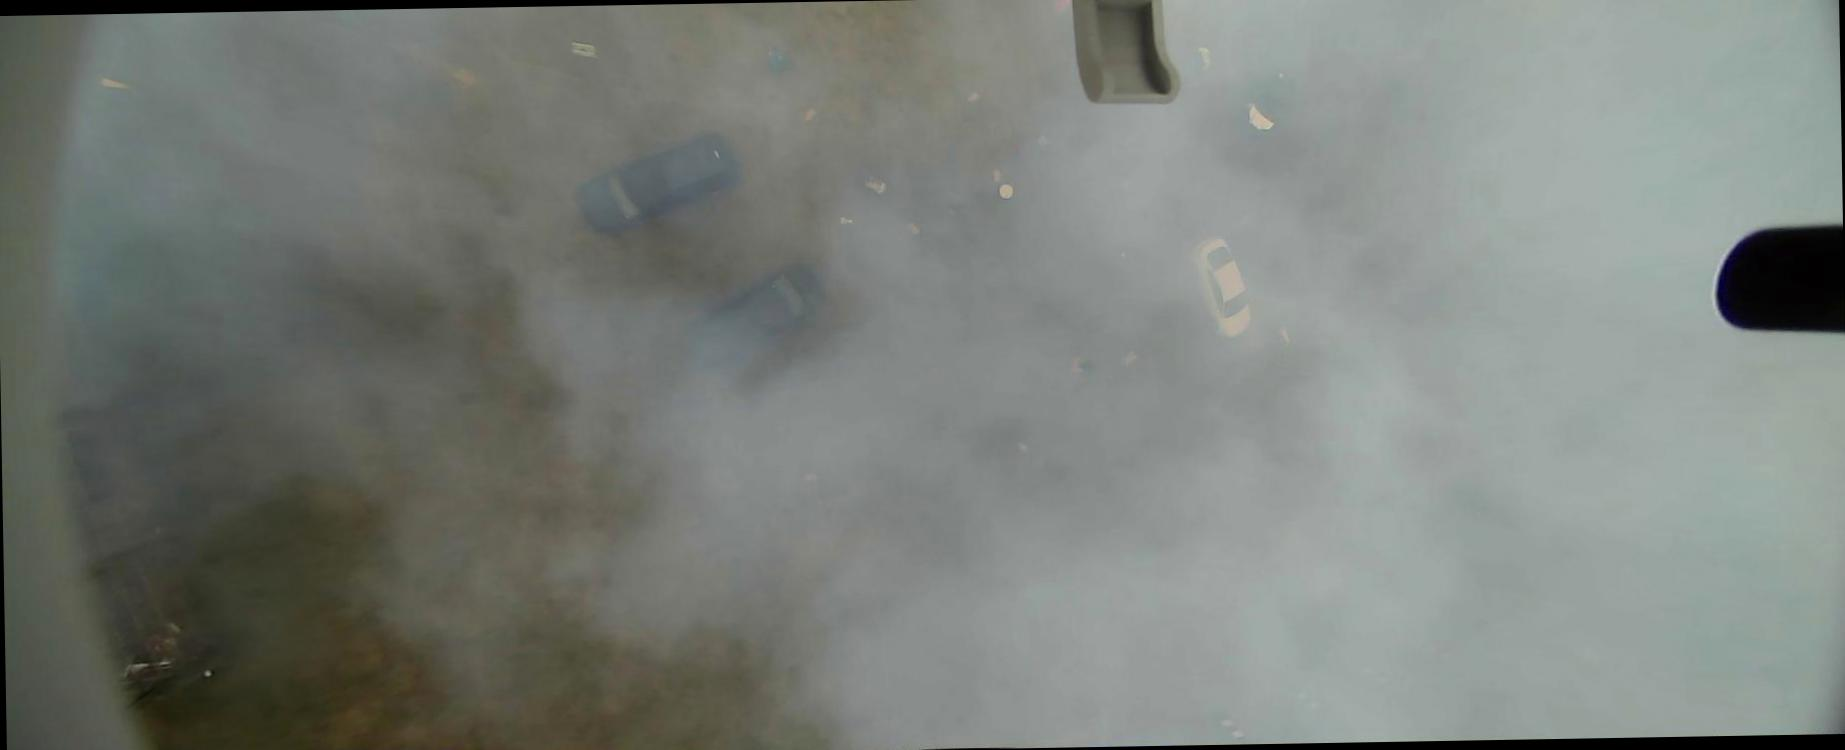vehicle: (570, 128, 742, 236), (682, 262, 826, 367), (1182, 232, 1254, 340), (1242, 72, 1303, 132)
